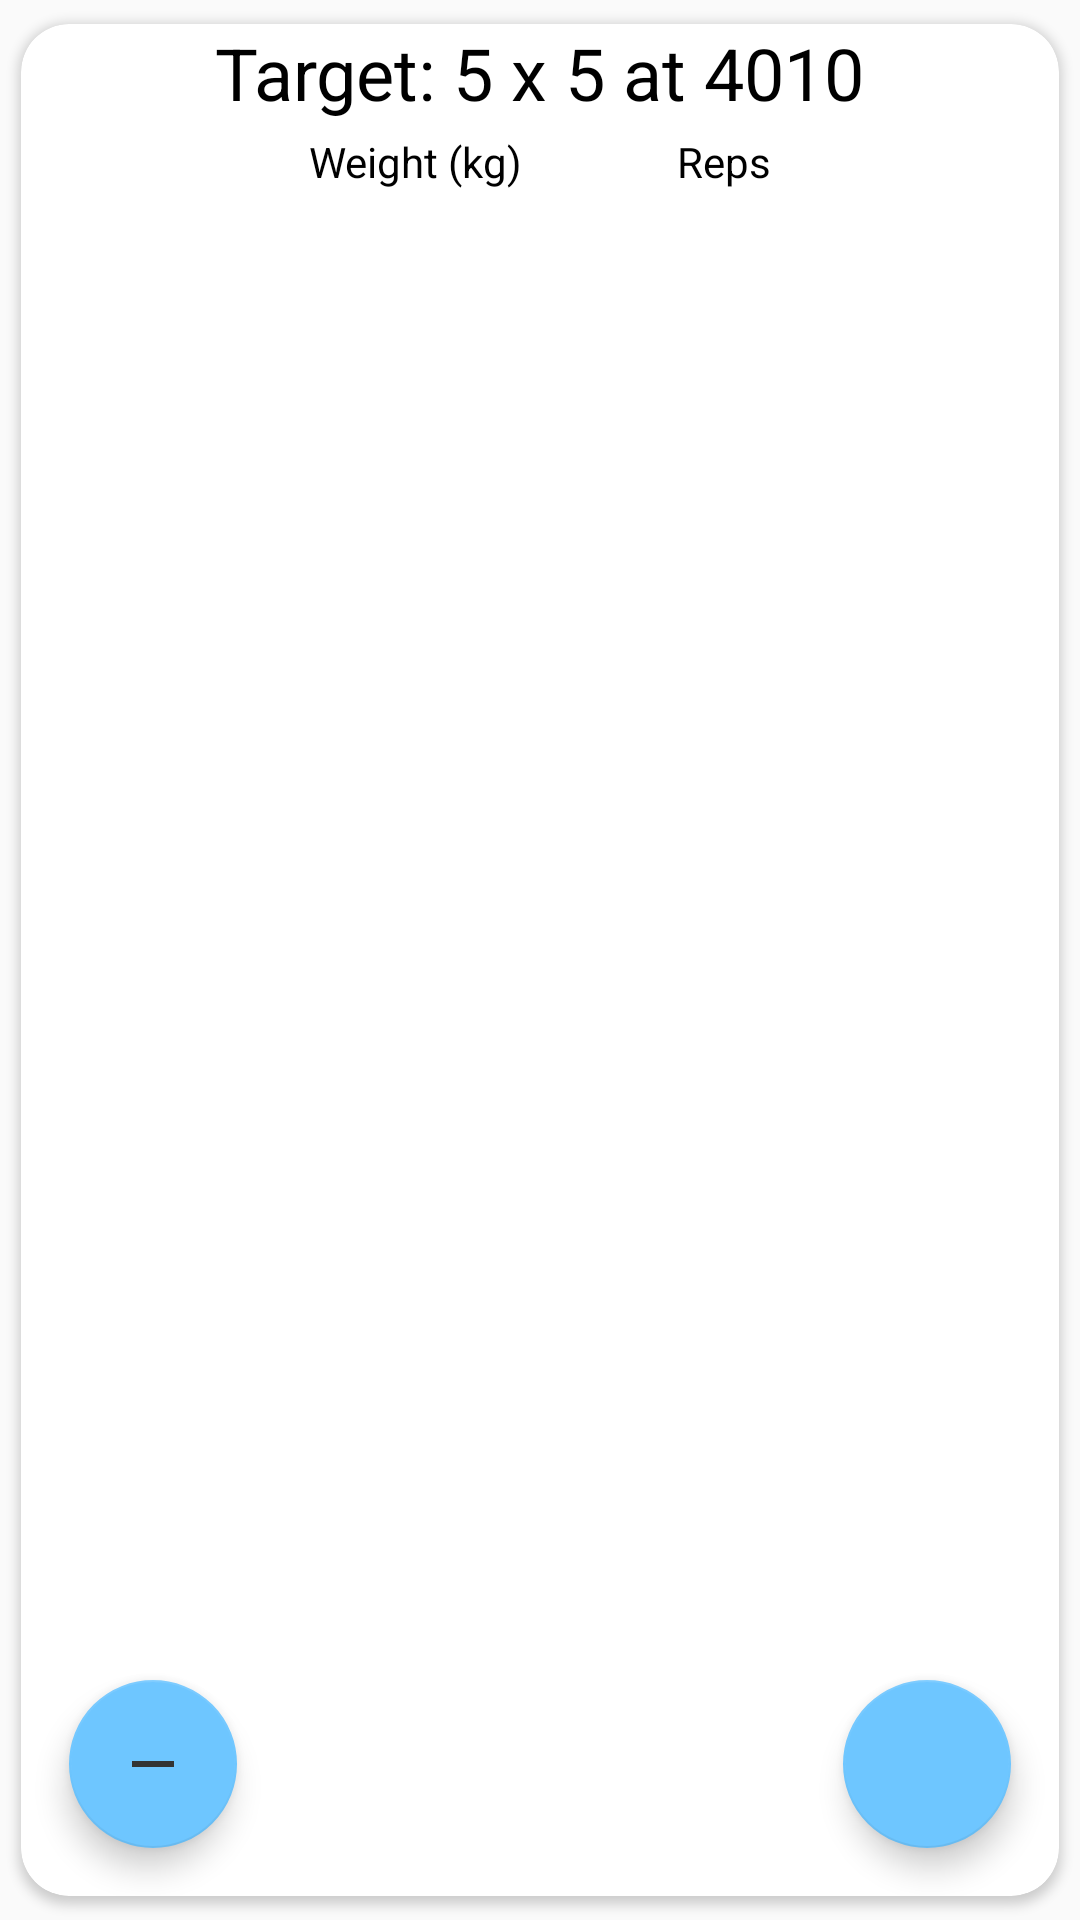

Icons on this 1080px x 1920px Android screen, each with its box as [x1=x1, y1=y1, x2=x2, y2=y2]:
minus: [x1=69, y1=1680, x2=237, y2=1848]
